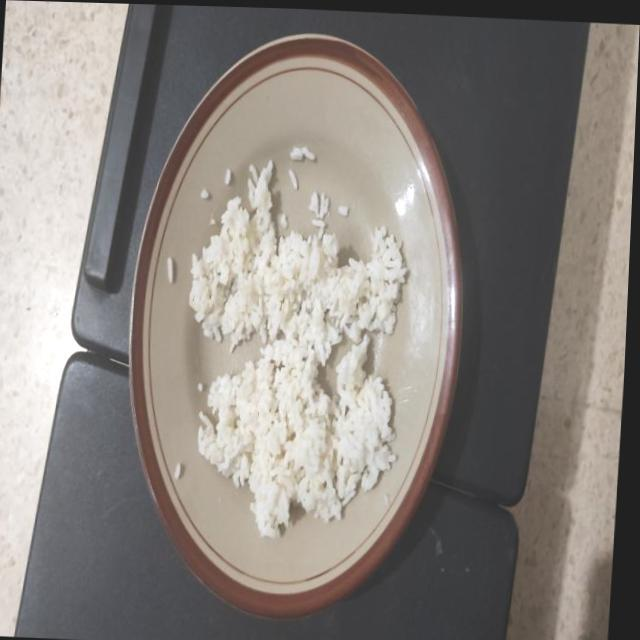nasi_putih: (189, 160, 406, 538)
